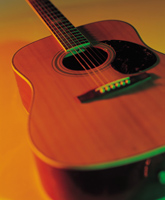guitar: (6, 1, 165, 196)
